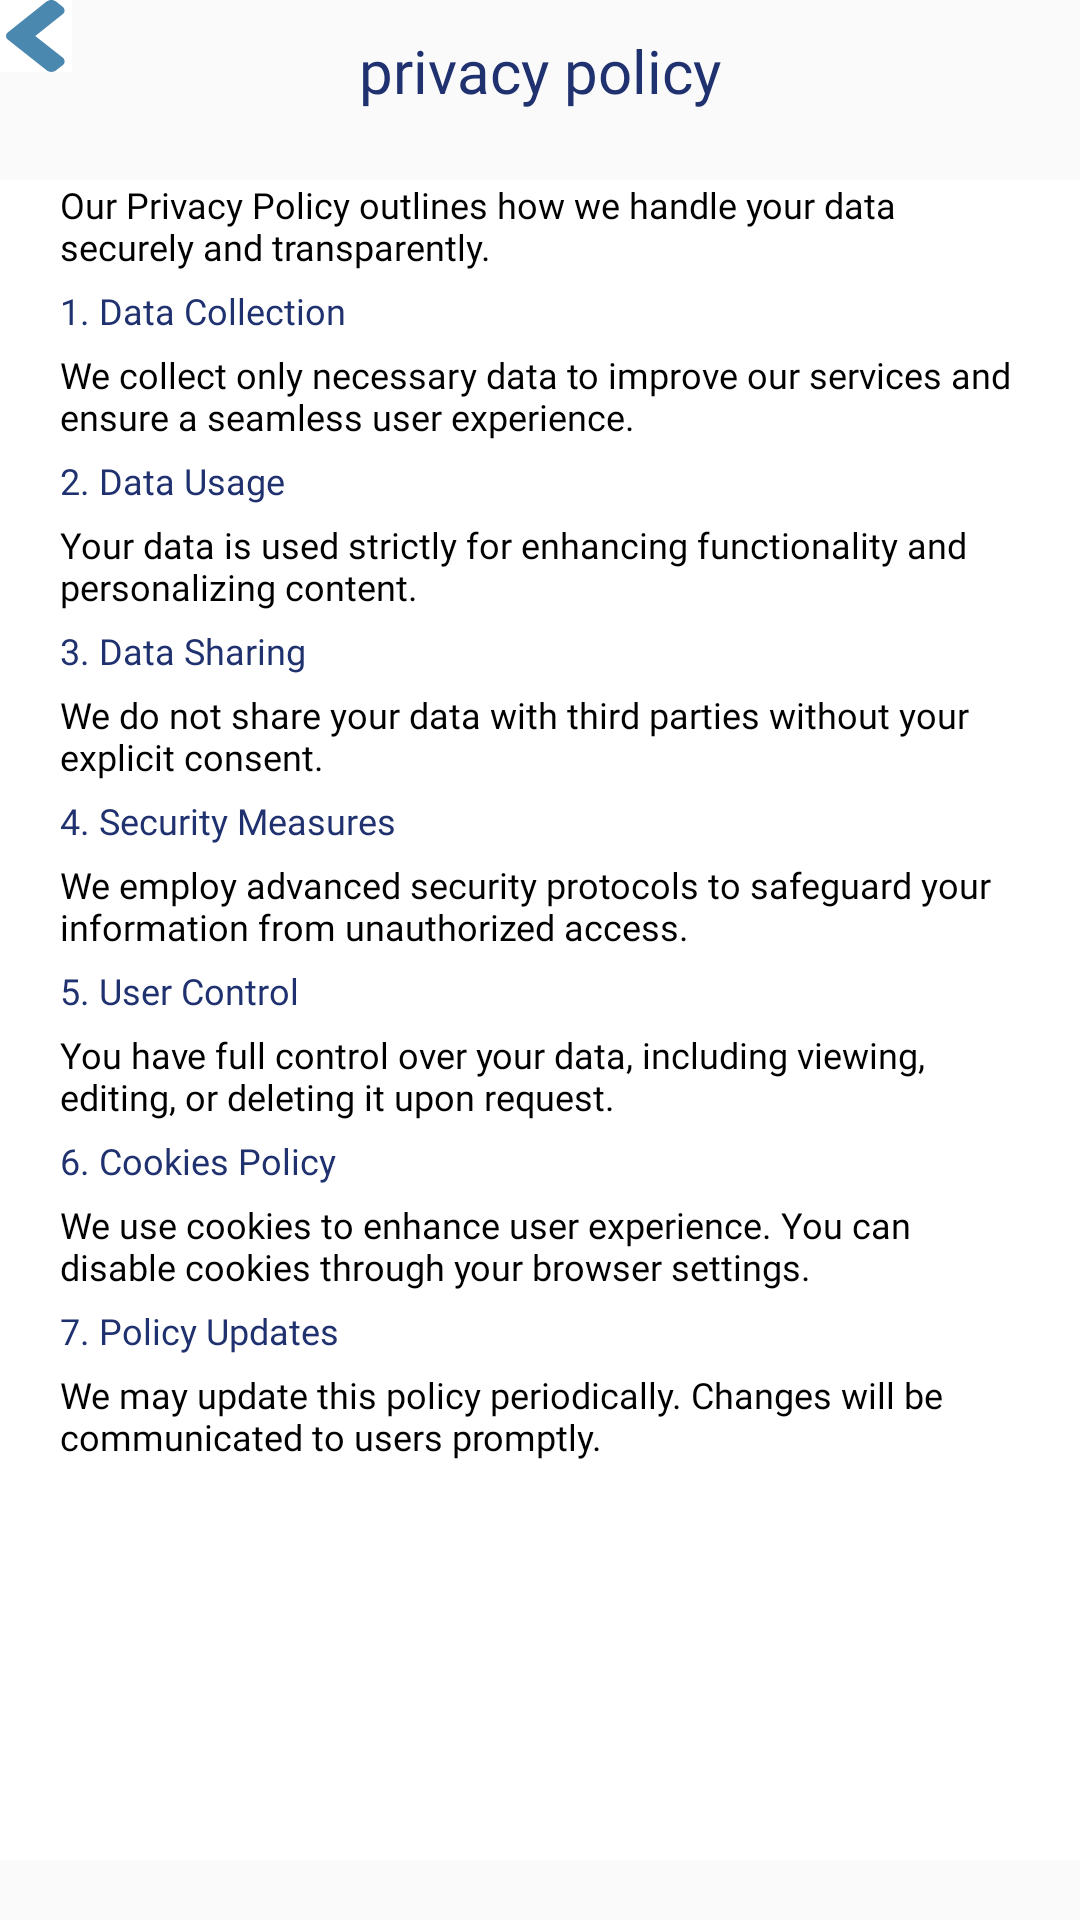

Where icons sit on this 1080x1920 app screen, as (x1, y1, x2, y2):
back arrow: (6, 0, 65, 72)
